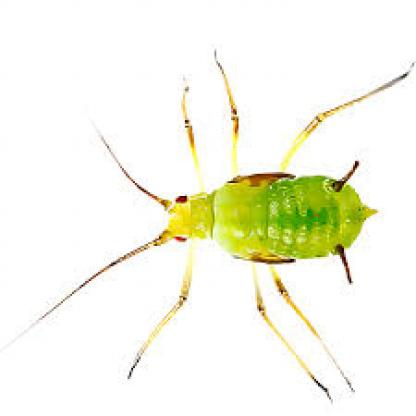aphid: (54, 56, 416, 397)
